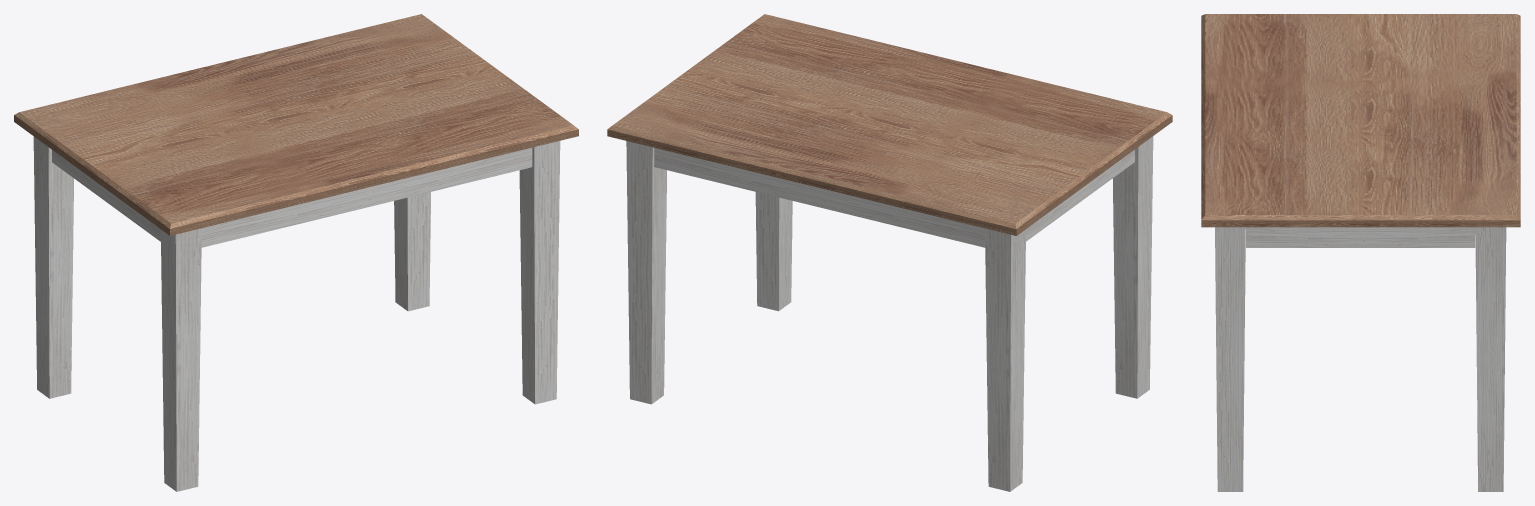
The model's file is Table 3.FBX.
3 views of the same model, side by side, from view 1: azimuth 30°, elevation 25°; view 2: azimuth 150°, elevation 25°; view 3: azimuth 270°, elevation 25° (orthographic). The views are drawn at different scales.
Parts seen in each view (by area): view 1: dining-room table 3; view 2: dining-room table 3; view 3: dining-room table 3.
Part boxes in pixels (x1,y1,x2,y2): dining-room table 3: (14, 14, 578, 491); dining-room table 3: (607, 14, 1172, 491); dining-room table 3: (1201, 14, 1520, 491).
Bounding box in the file's own units: 125 × 80.43 × 82.42.
Materials: 2 (2 with a texture image).
